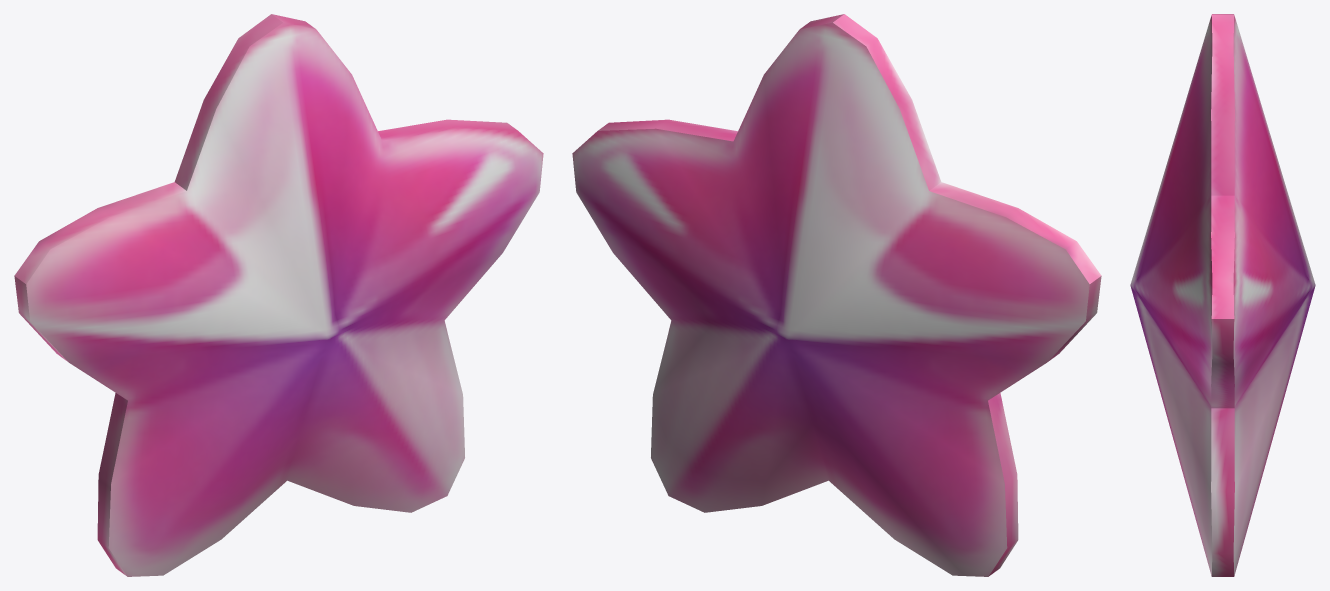
File: scenes_common_tools03.FBX
The picture shows the model from 3 angles, left to right: view 1: azimuth 30°, elevation 25°; view 2: azimuth 150°, elevation 25°; view 3: azimuth 270°, elevation 25°; orthographic projection. The views are drawn at different scales.
Visible parts, largest first — view 1: scenes_common_tools03; view 2: scenes_common_tools03; view 3: scenes_common_tools03.
Part boxes in pixels (left/top/right/bottom): scenes_common_tools03: left=14, top=14, right=543, bottom=576; scenes_common_tools03: left=572, top=14, right=1101, bottom=576; scenes_common_tools03: left=1130, top=14, right=1315, bottom=576.
Size of the model in its own units: 92.04 by 89.08 by 30.12.
